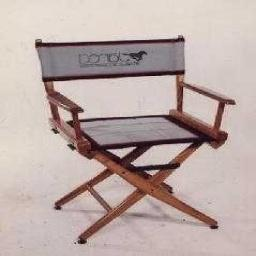Chair: (36, 38, 236, 245)
